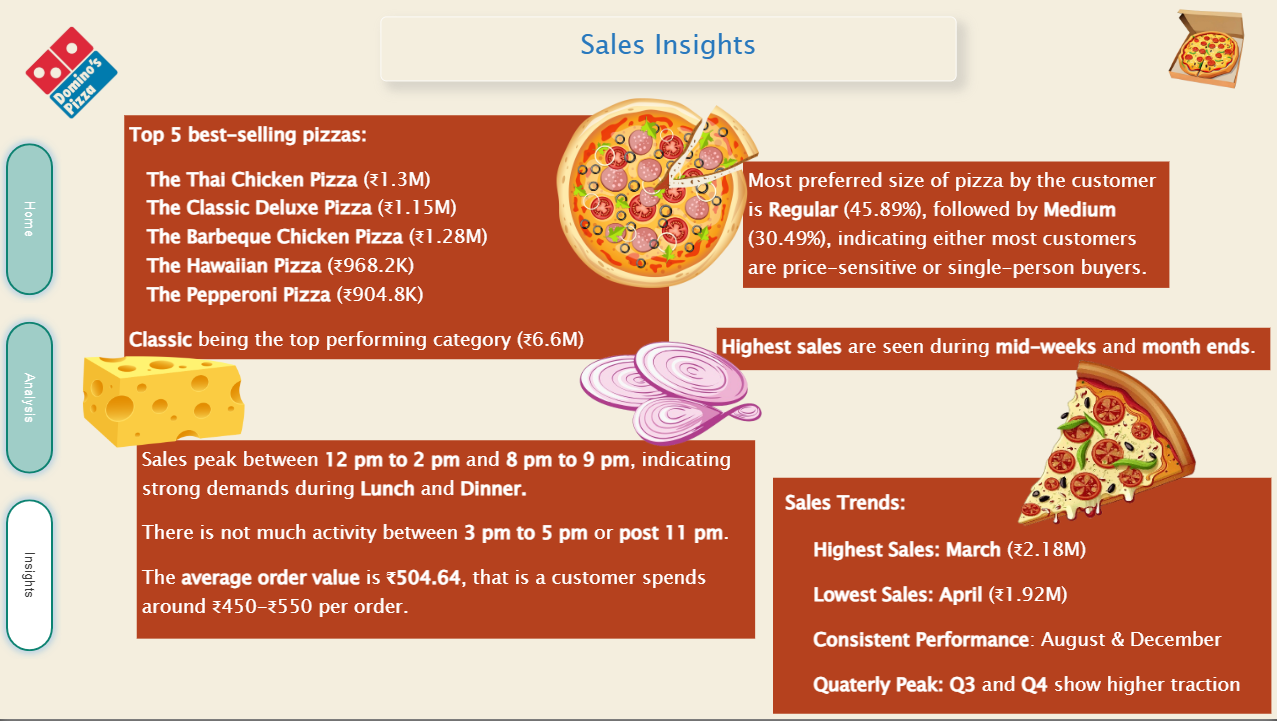

What the dashboard file says about the page in this screenshot:
{"tool":"powerbi","page":{"name":"Insights","canvas":[1280,720],"ordinal":2},"visuals":[{"type":"textbox","box":[382.5,17.5,576.2,65],"z":0},{"type":"image","box":[0,0,147.5,147.5],"z":1000},{"type":"pageNavigator","box":[0,136.2,63.8,526.2],"z":2000},{"type":"textbox","box":[775,478.8,498.8,236.2],"z":3000},{"type":"textbox","box":[126.2,116.2,545,243.8],"z":4000},{"type":"textbox","box":[745,162.5,426.2,126.2],"z":5000},{"type":"textbox","box":[138.8,441.2,618.8,198.8],"z":6000},{"type":"textbox","box":[718.8,328.8,553.8,42.5],"z":7000},{"type":"image","box":[553.8,82.5,212.5,223.8],"z":8000},{"type":"image","box":[925,332.5,355,230],"z":9000},{"type":"image","box":[73.8,352.5,183.8,101.2],"z":10000},{"type":"image","box":[500,290,346.2,210],"z":11000},{"type":"image","box":[1140,0,140,100],"z":12000}]}

Visuals, with their boxes on the page's 1280x720 design canvas (x1, y1, x2, y2). These are canvas units, not pixel positions in the 1277x721 screenshot, which may show the page scaled, cropped or inside an application window:
textbox: rect(382, 18, 959, 82)
image: rect(0, 0, 148, 148)
pageNavigator: rect(0, 136, 64, 662)
textbox: rect(775, 479, 1274, 715)
textbox: rect(126, 116, 671, 360)
textbox: rect(745, 162, 1171, 289)
textbox: rect(139, 441, 758, 640)
textbox: rect(719, 329, 1273, 371)
image: rect(554, 82, 766, 306)
image: rect(925, 332, 1280, 562)
image: rect(74, 352, 258, 454)
image: rect(500, 290, 846, 500)
image: rect(1140, 0, 1280, 100)
